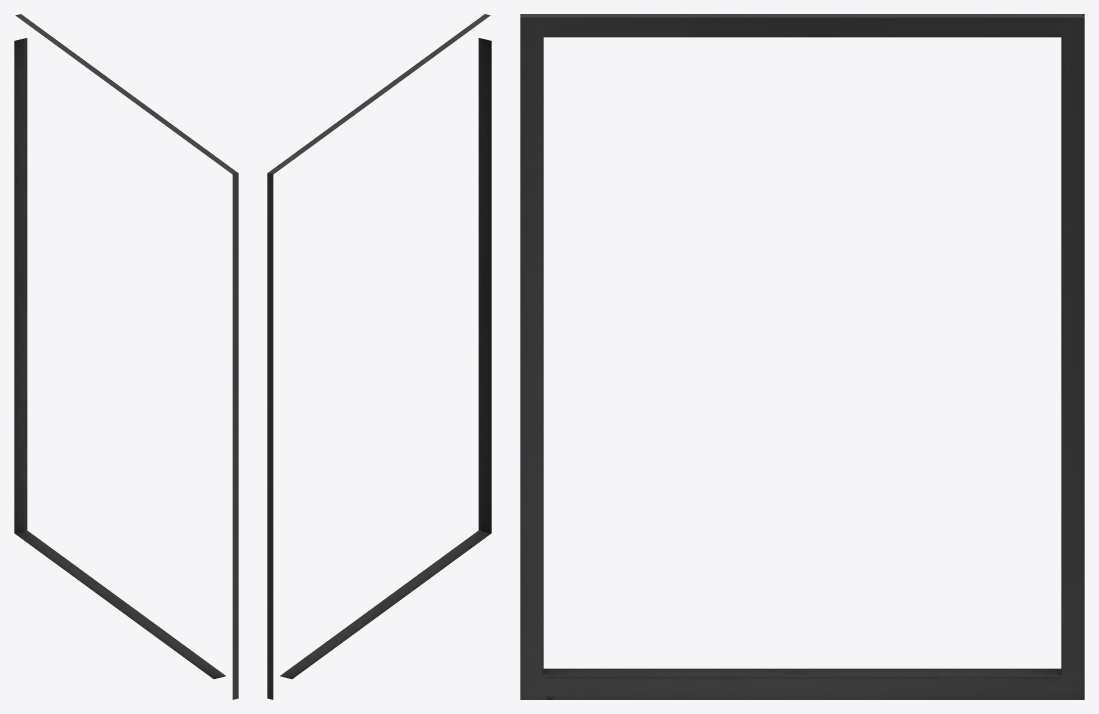
The picture shows the model from 3 angles, left to right: view 1: azimuth 30°, elevation 25°; view 2: azimuth 150°, elevation 25°; view 3: azimuth 270°, elevation 25°; orthographic projection. The views are drawn at different scales.
Parts seen in each view (by area): view 1: body0_model0_lod0_mesh0; view 2: body0_model0_lod0_mesh0; view 3: body0_model0_lod0_mesh0.
Part boxes in pixels (x1=…): body0_model0_lod0_mesh0: x1=14, y1=14, x2=238, y2=699; body0_model0_lod0_mesh0: x1=267, y1=14, x2=491, y2=699; body0_model0_lod0_mesh0: x1=520, y1=14, x2=1084, y2=699.
Bounding box in the file's own units: 4 × 128 × 96.
1 material, 1 textured.
